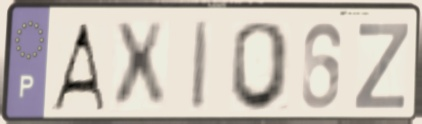6: (298, 20, 343, 112)
A: (47, 20, 108, 114)
I: (188, 19, 214, 115)
O: (227, 19, 295, 114)
X: (111, 19, 169, 115)
Z: (350, 20, 412, 112)
